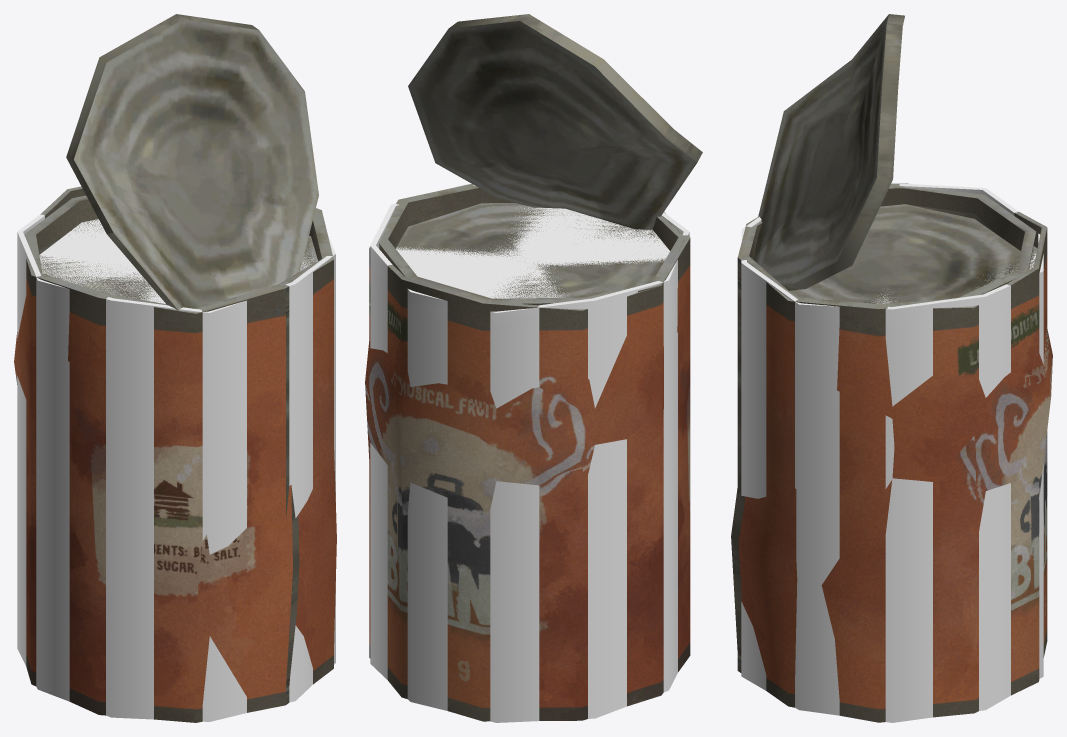
The model's file is GEAR_CannedBeans.glb.
3 views of the same model, side by side, from view 1: azimuth 30°, elevation 25°; view 2: azimuth 150°, elevation 25°; view 3: azimuth 270°, elevation 25° (orthographic).
Visible parts, largest first — view 1: OBJ_CannedBeansUsed, OBJ_CannedFood_Old, OBJ_CannedFood; view 2: OBJ_CannedBeansUsed, OBJ_CannedFood_Old, OBJ_CannedFood; view 3: OBJ_CannedBeansUsed, OBJ_CannedFood, OBJ_CannedFood_Old.
Part boxes in pixels (x1,y1,x2,y2): OBJ_CannedBeansUsed: (14, 14, 336, 722); OBJ_CannedFood_Old: (17, 207, 335, 721); OBJ_CannedFood: (26, 186, 333, 706); OBJ_CannedBeansUsed: (365, 14, 702, 695); OBJ_CannedFood_Old: (370, 184, 689, 722); OBJ_CannedFood: (369, 201, 690, 721); OBJ_CannedBeansUsed: (731, 14, 1052, 722); OBJ_CannedFood: (737, 183, 1047, 722); OBJ_CannedFood_Old: (741, 183, 1043, 722).
Size of the model in its own units: 0.1095 by 0.24 by 0.1107.
Materials: 4 (3 with a texture image).
